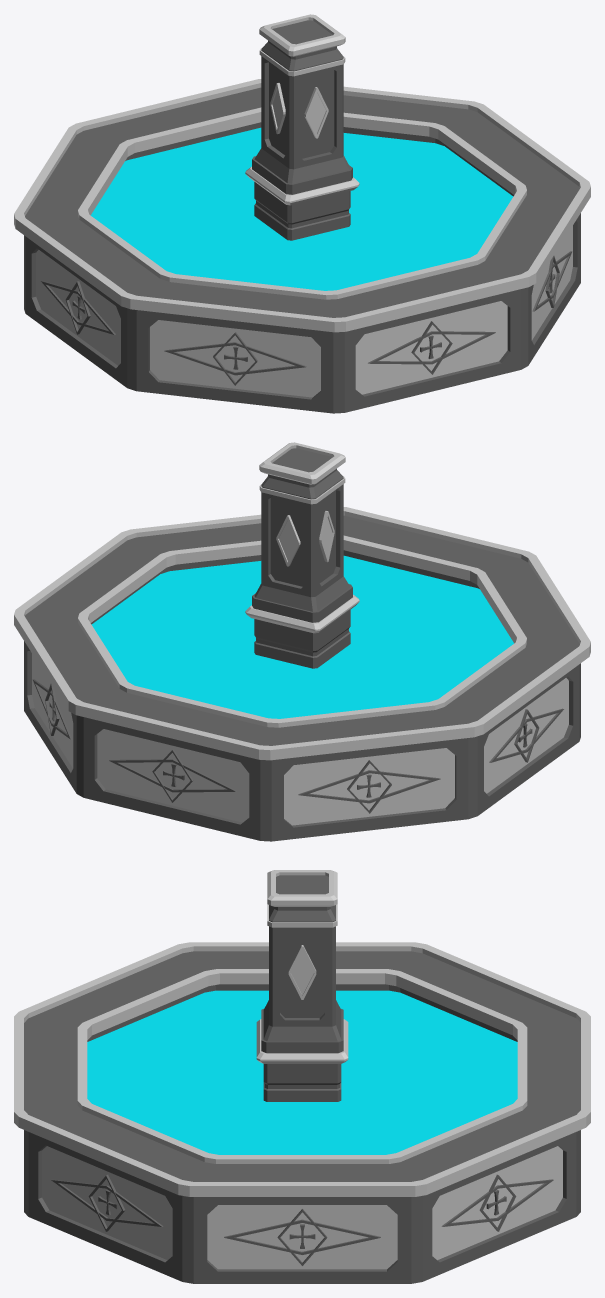
The model's file is fountain_a.FBX.
3 renders of one model, top to bottom at view 1: azimuth 30°, elevation 25°; view 2: azimuth 150°, elevation 25°; view 3: azimuth 270°, elevation 25°, orthographic. The views are drawn at different scales.
Parts seen in each view (by area): view 1: fountain_a_LOD0; view 2: fountain_a_LOD0; view 3: fountain_a_LOD0.
Part boxes in pixels (left/top/right/bottom): fountain_a_LOD0: left=14, top=14, right=590, bottom=413; fountain_a_LOD0: left=14, top=442, right=590, bottom=841; fountain_a_LOD0: left=14, top=870, right=590, bottom=1283.
Size of what is drawn, in the model's own units: 431 by 233 by 431.
